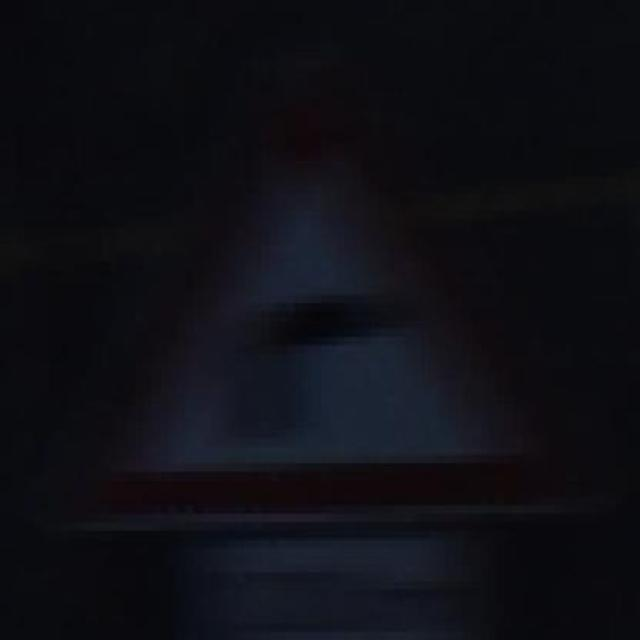Dangerous Rright Curve Ahead: (68, 75, 564, 548)
